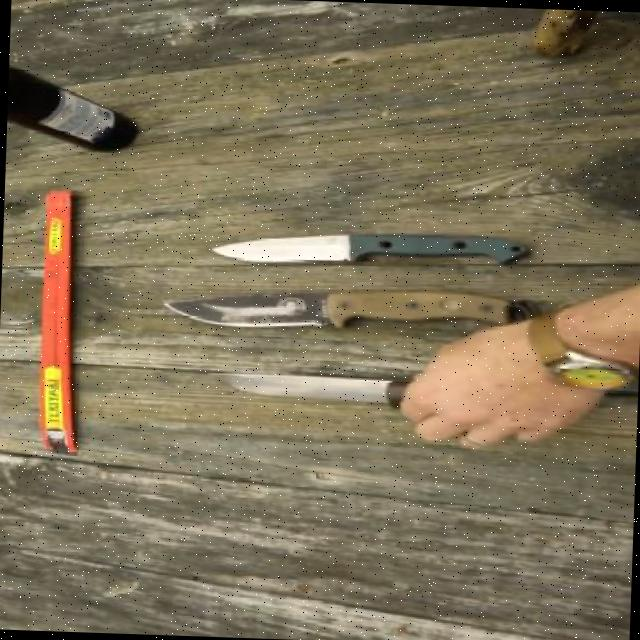Knife: (158, 264, 528, 342), (205, 200, 536, 279), (206, 353, 428, 409)
